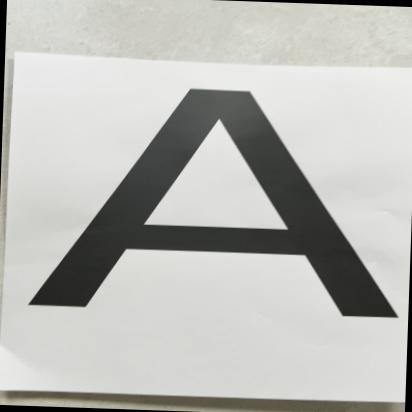seat: (42, 76, 412, 346)
